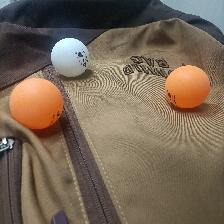WhiteBall: (50, 37, 88, 77)
YellowBall: (8, 77, 63, 129), (165, 65, 209, 107)
